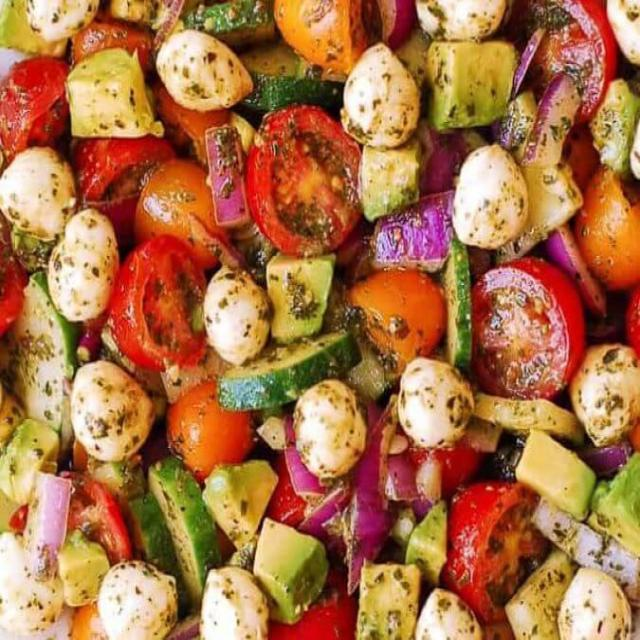Tomato: (462, 260, 585, 400), (250, 108, 360, 249), (119, 234, 213, 363)
